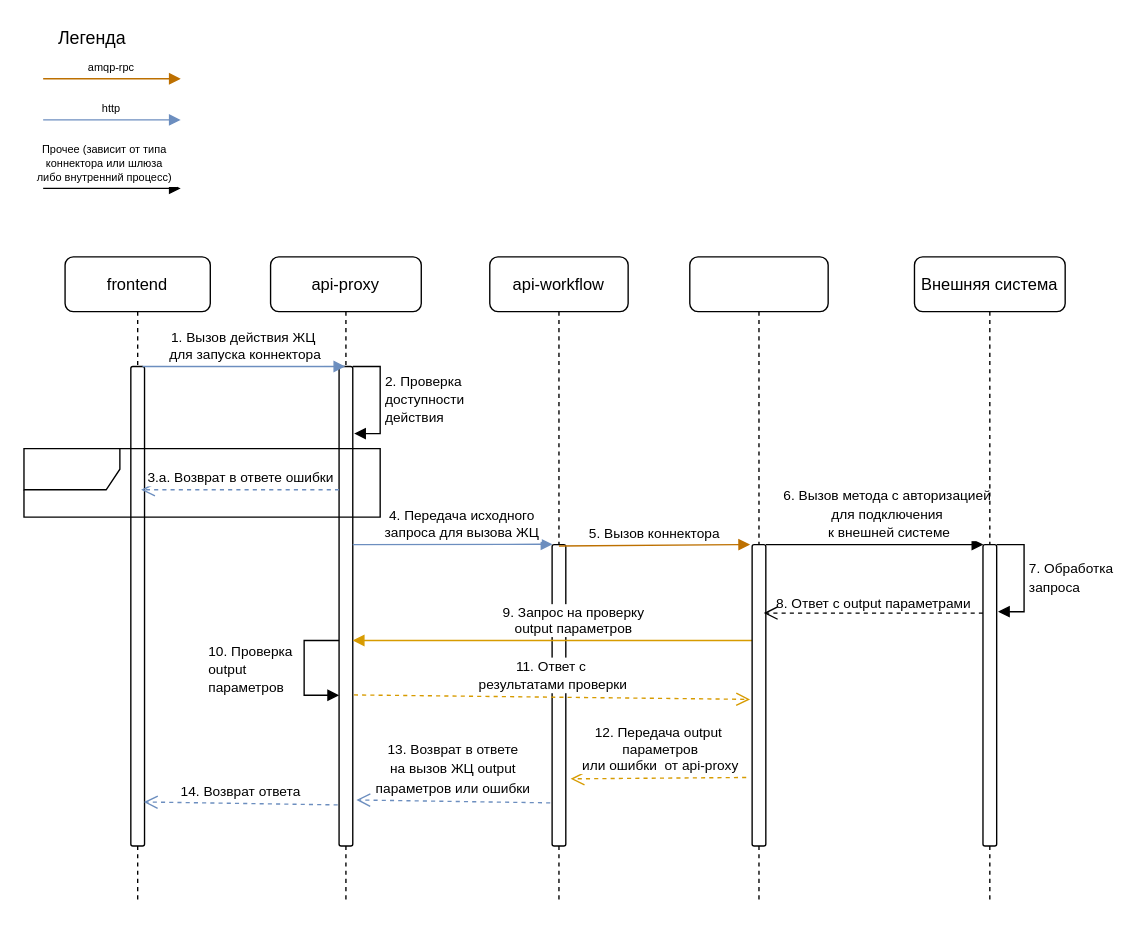
Image size: 1138x925. Some labels were removed from this diagram. Each missing label, with the centre of its shape:
"alt. Наличие ошибок" goes at point (201, 482).
"connector" goes at point (758, 578).
